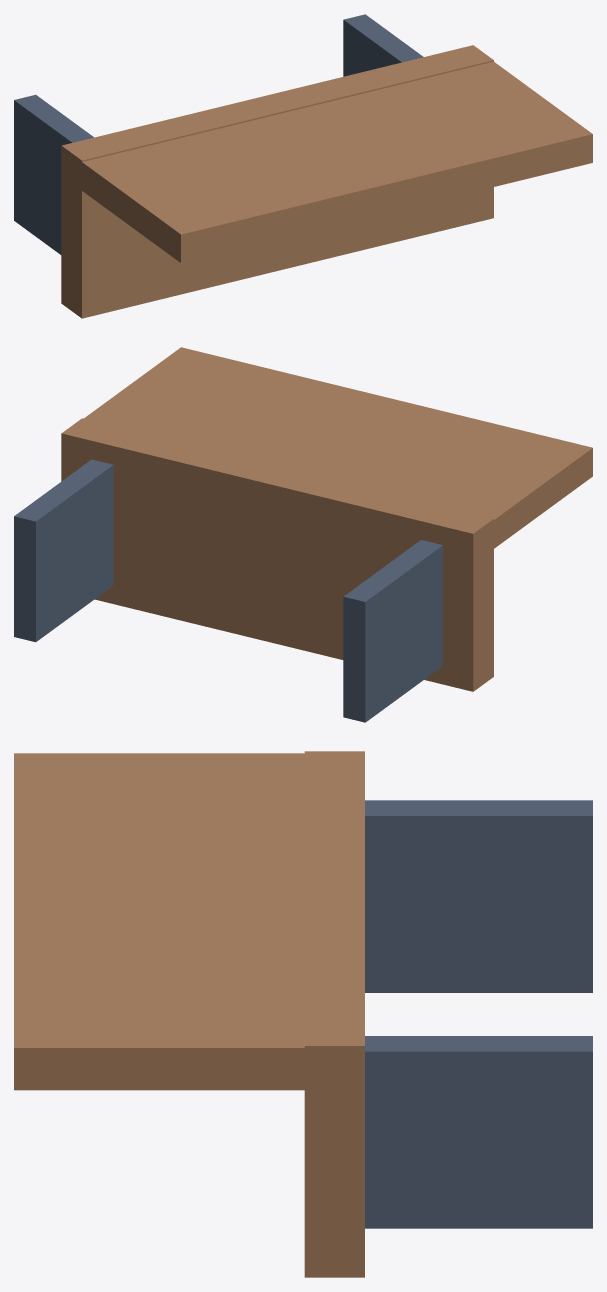
File: bench.glb
3 views of the same model, one above another, from view 1: azimuth 30°, elevation 25°; view 2: azimuth 150°, elevation 25°; view 3: azimuth 270°, elevation 25° (orthographic). The views are drawn at different scales.
Visible parts, largest first — view 1: back_3, seat_0, leg_1, leg_2; view 2: seat_0, back_3, leg_2, leg_1; view 3: back_3, leg_1, leg_2, seat_0.
Boxes of the visible parts, x1=… form: back_3: x1=70, y1=61, x2=592, y2=263; seat_0: x1=61, y1=45, x2=493, y2=318; leg_1: x1=14, y1=94, x2=93, y2=254; leg_2: x1=343, y1=14, x2=423, y2=76; seat_0: x1=61, y1=418, x2=493, y2=691; back_3: x1=84, y1=347, x2=592, y2=548; leg_2: x1=14, y1=459, x2=113, y2=642; leg_1: x1=343, y1=540, x2=442, y2=722; back_3: x1=14, y1=753, x2=339, y2=1090; leg_1: x1=365, y1=800, x2=592, y2=992; leg_2: x1=365, y1=1036, x2=592, y2=1228; seat_0: x1=304, y1=751, x2=364, y2=1277.
Bounding box in the file's own units: 1.5 × 0.55 × 1.24.
